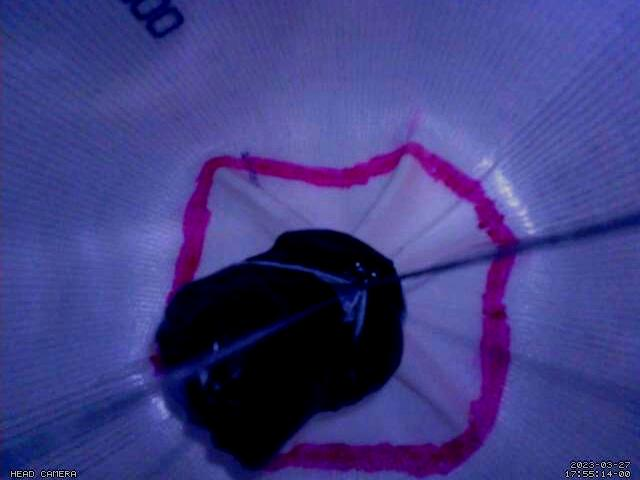red-circle: (165, 141, 520, 480)
